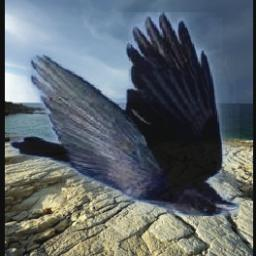Crow: (11, 13, 240, 217)
